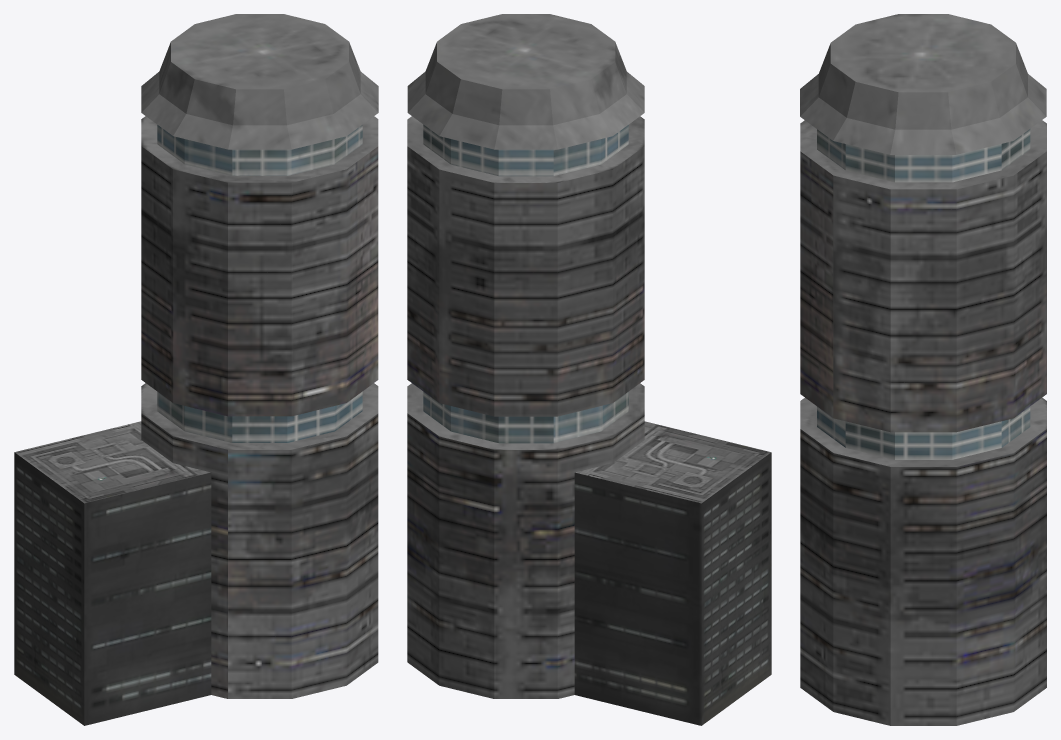
Rendered from scifi_building_24.obj.
3 views of the same model, side by side, from view 1: azimuth 30°, elevation 25°; view 2: azimuth 150°, elevation 25°; view 3: azimuth 270°, elevation 25° (orthographic). The views are drawn at different scales.
Visible parts, largest first — view 1: building_24; view 2: building_24; view 3: building_24.
Boxes of the visible parts, x1=… form: building_24: x1=14, y1=14, x2=378, y2=725; building_24: x1=407, y1=14, x2=771, y2=725; building_24: x1=800, y1=14, x2=1046, y2=725.
Size of the model in its own units: 73.21 by 133 by 48.06.
1 material, 1 textured.
